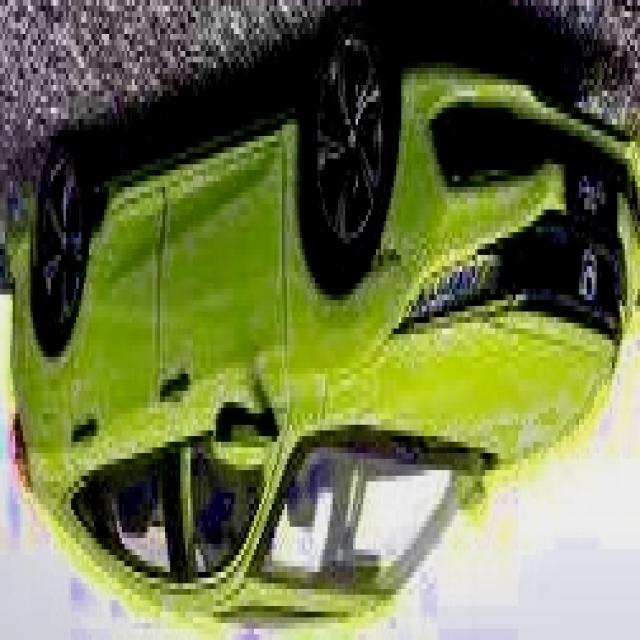green: (10, 25, 638, 626)
